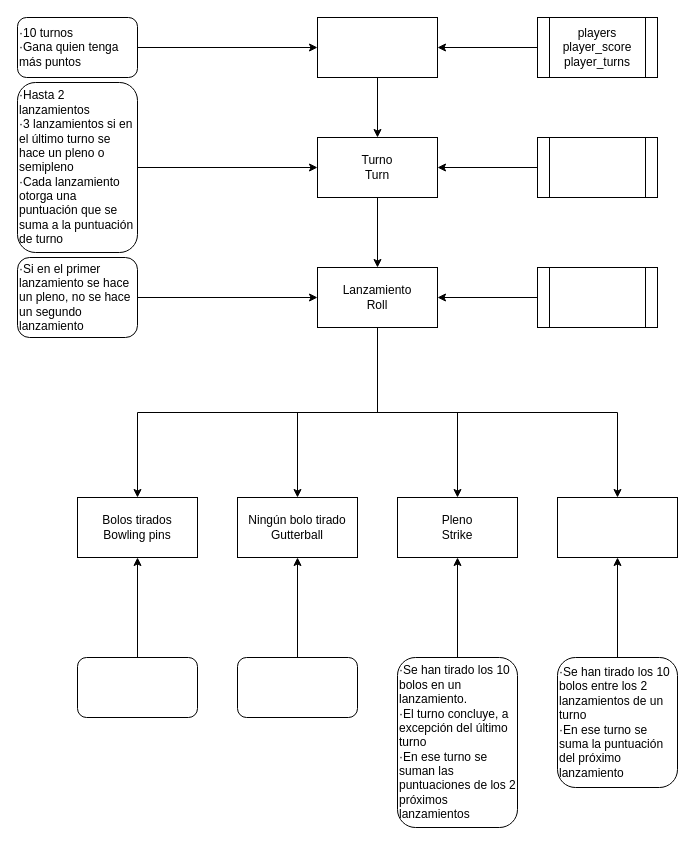
Some shapes in this 695 by 845 pixel diagram are drawn without their labels. The shapes that lost their labels are listed below. From the top down, each one's centre as x and y in pixels, then its label:
At point (377, 47): "Partida Game".
At point (597, 167): "turn_score".
At point (597, 297): "roll_score".
At point (617, 527): "Semipleno Spare".
At point (137, 687): "·Se suma el total de los bolos tirados".
At point (297, 687): "·No se han tirado bolos".
